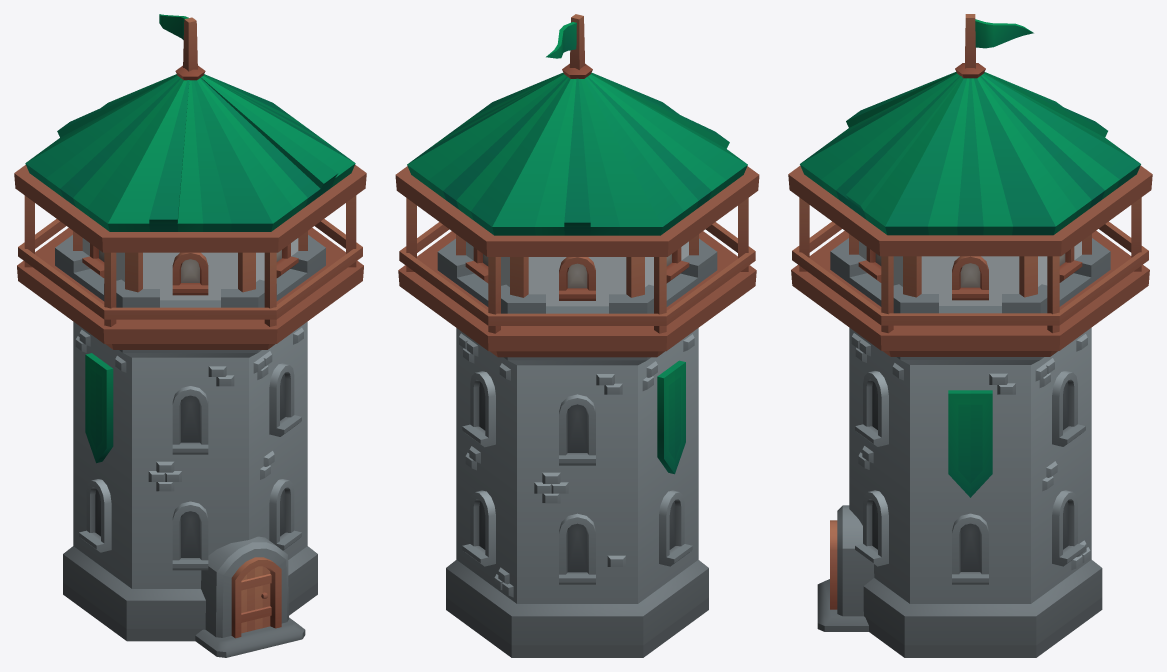
File: building_tower_B_green.gltf
3 renders of one model, left to right at view 1: azimuth 30°, elevation 25°; view 2: azimuth 150°, elevation 25°; view 3: azimuth 270°, elevation 25°, orthographic. The views are drawn at different scales.
Visible parts, largest first — view 1: building_tower_B_green, building_tower_B_top_green; view 2: building_tower_B_green, building_tower_B_top_green; view 3: building_tower_B_green, building_tower_B_top_green.
Boxes of the visible parts, x1,y1,x2,y2 form: building_tower_B_green: (55,235,325,657); building_tower_B_top_green: (14,14,366,349); building_tower_B_green: (437,238,717,657); building_tower_B_top_green: (395,14,759,357); building_tower_B_green: (817,238,1110,657); building_tower_B_top_green: (788,14,1152,356).
Size of the model in its own units: 1.2 by 2.49 by 1.38.
1 material, 1 textured.
